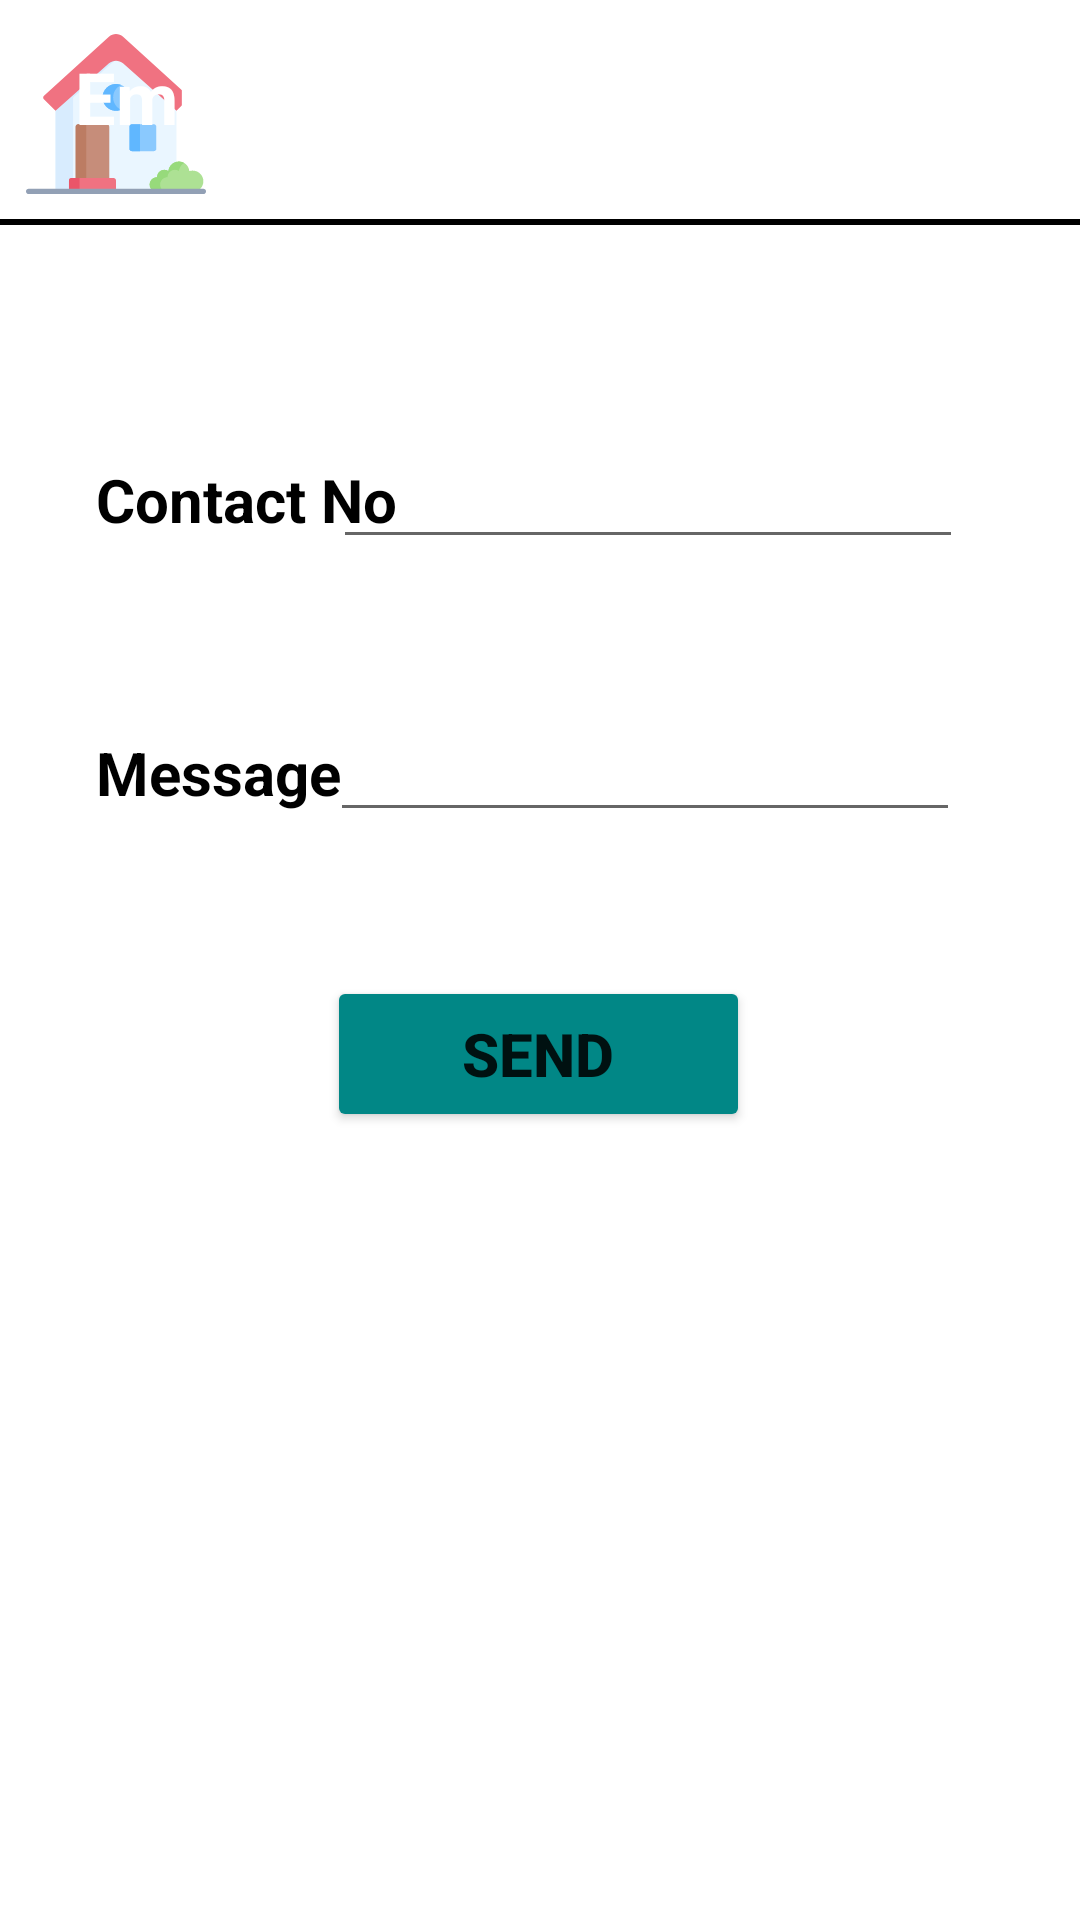

Screen size 1080*1920. Icon name, then its box in pixels as (x1, y1, x2, y2):
home: (26, 34, 206, 194)
